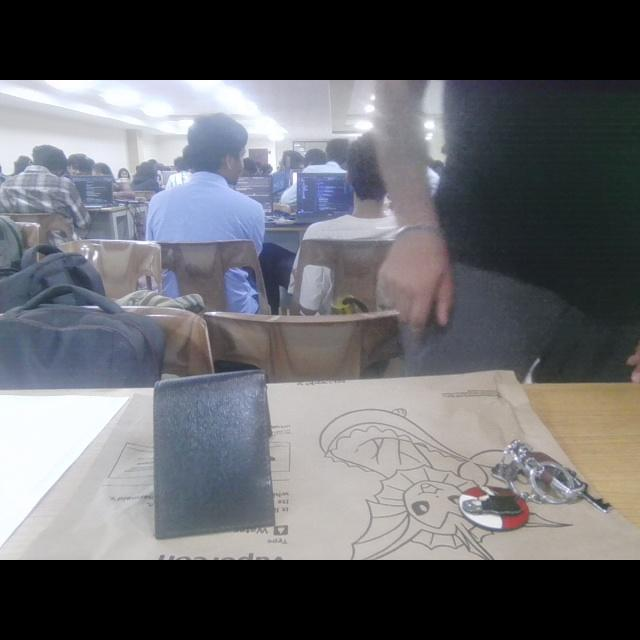keys: (449, 420, 621, 542)
wallet: (141, 358, 299, 546)
